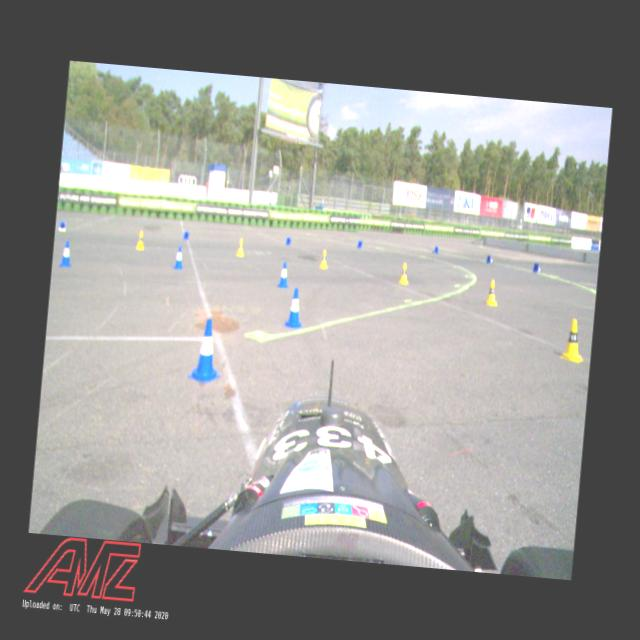blue_cone: (187, 314, 226, 384), (282, 286, 306, 330), (58, 239, 73, 268), (276, 260, 291, 288), (172, 245, 186, 269), (532, 262, 542, 273), (485, 254, 494, 264), (58, 220, 66, 231), (284, 236, 292, 246), (182, 230, 189, 240), (432, 245, 438, 254), (357, 240, 363, 248)
yellow_cone: (560, 315, 587, 362), (484, 278, 500, 306), (398, 261, 410, 285), (318, 248, 329, 270), (135, 230, 146, 250), (235, 238, 245, 256)
